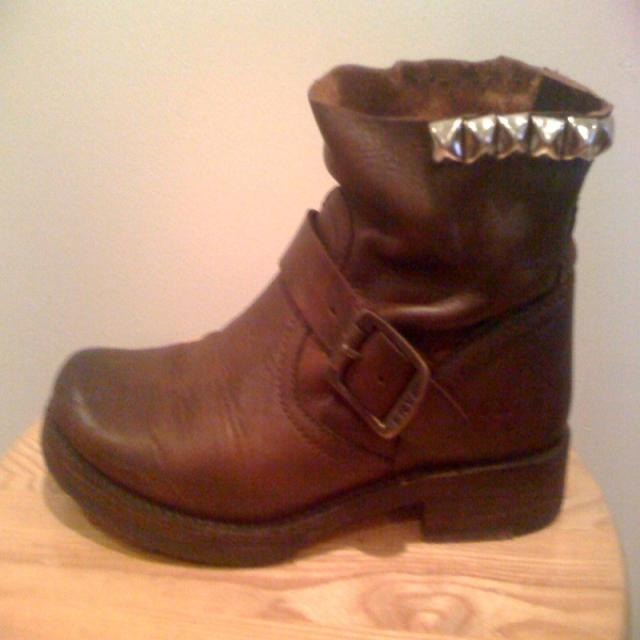boot: (32, 48, 619, 584)
